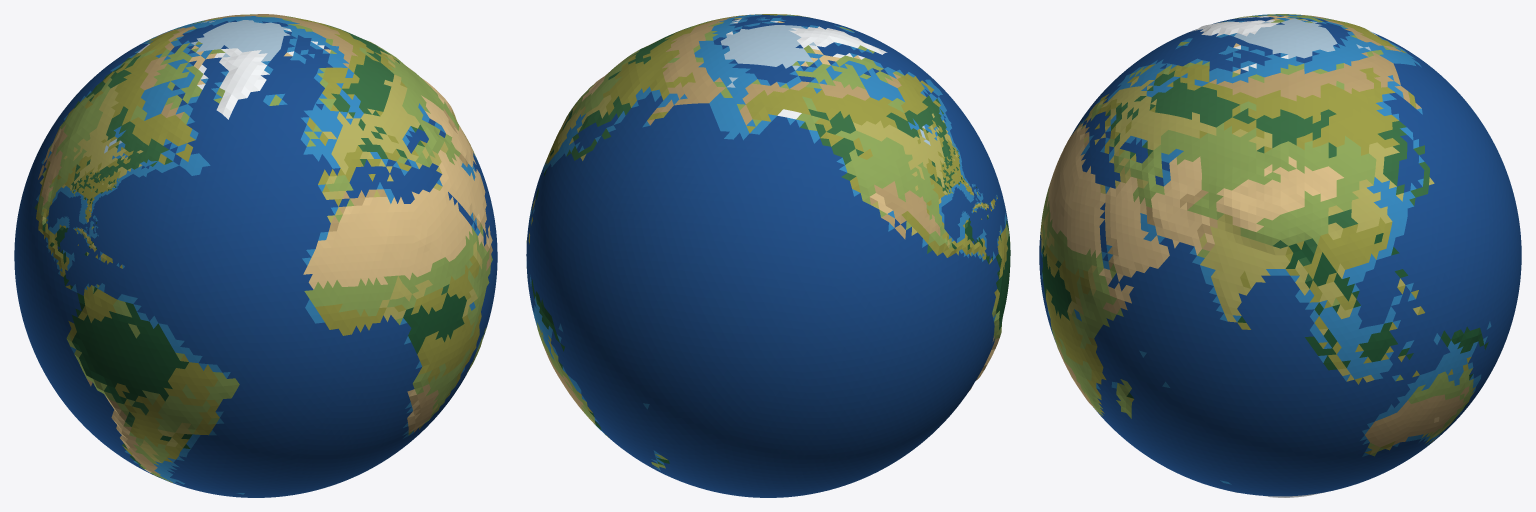
Rendered from earth.glb.
3 views of the same model, side by side, from view 1: azimuth 30°, elevation 25°; view 2: azimuth 150°, elevation 25°; view 3: azimuth 270°, elevation 25° (orthographic).
Parts seen in each view (by area): view 1: Earth_OceanDeep, Earth_Savanna, Earth_Grass, Earth_Desert, Earth_OceanShelf, Earth_Jungle, Earth_Crop, Earth_Forest, Earth_Shrub, Earth_SeaIce, Earth_Ice; view 2: Earth_OceanDeep, Earth_Savanna, Earth_OceanShelf, Earth_Grass, Earth_Shrub, Earth_Forest, Earth_SeaIce, Earth_Crop, Earth_Jungle, Earth_Ice, Earth_Desert; view 3: Earth_OceanDeep, Earth_Grass, Earth_Desert, Earth_Savanna, Earth_OceanShelf, Earth_Crop, Earth_Shrub, Earth_Forest, Earth_Jungle, Earth_SeaIce, Earth_Ice.
Part boxes in pixels (x1,y1,x2,y2): Earth_OceanDeep: (14, 20, 497, 497); Earth_Savanna: (36, 14, 481, 482); Earth_Grass: (38, 16, 492, 481); Earth_Desert: (50, 45, 492, 472); Earth_OceanShelf: (36, 16, 496, 494); Earth_Jungle: (42, 185, 466, 460); Earth_Crop: (40, 50, 482, 462); Earth_Forest: (34, 24, 449, 477); Earth_Shrub: (38, 14, 492, 474); Earth_SeaIce: (104, 20, 290, 153); Earth_Ice: (137, 29, 324, 472); Earth_OceanDeep: (526, 14, 1007, 497); Earth_Savanna: (528, 14, 1007, 437); Earth_OceanShelf: (526, 14, 1008, 470); Earth_Grass: (536, 14, 1010, 468); Earth_Shrub: (543, 15, 940, 413); Earth_Forest: (562, 16, 985, 465); Earth_SeaIce: (720, 25, 930, 145); Earth_Crop: (528, 42, 993, 424); Earth_Jungle: (526, 149, 1010, 463); Earth_Ice: (727, 19, 887, 119); Earth_Desert: (562, 18, 999, 390); Earth_OceanDeep: (1039, 16, 1521, 496); Earth_Grass: (1041, 14, 1474, 456); Earth_Desert: (1047, 16, 1439, 422); Earth_Savanna: (1040, 18, 1475, 454); Earth_OceanShelf: (1041, 14, 1491, 484); Earth_Crop: (1040, 76, 1453, 454); Earth_Shrub: (1057, 15, 1469, 447); Earth_Forest: (1055, 70, 1442, 435); Earth_Jungle: (1042, 233, 1488, 444); Earth_SeaIce: (1234, 18, 1370, 58); Earth_Ice: (1190, 16, 1376, 497).
Bounding box in the file's own units: 2 × 2.01 × 2.
